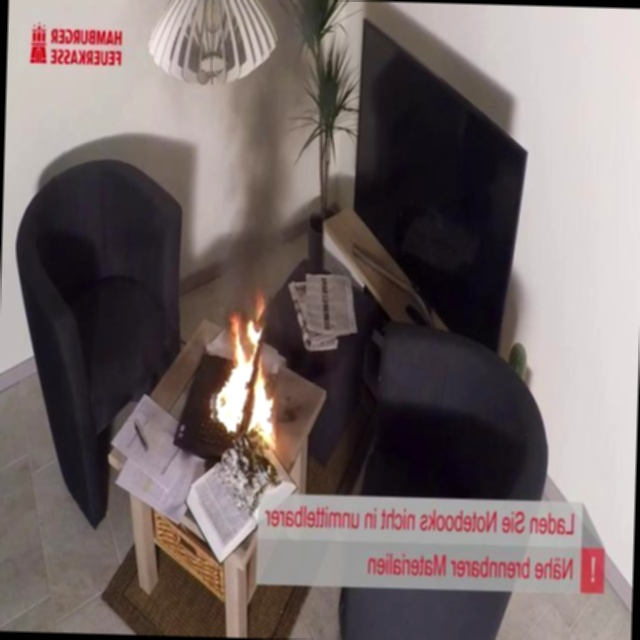fire: (199, 301, 287, 444)
